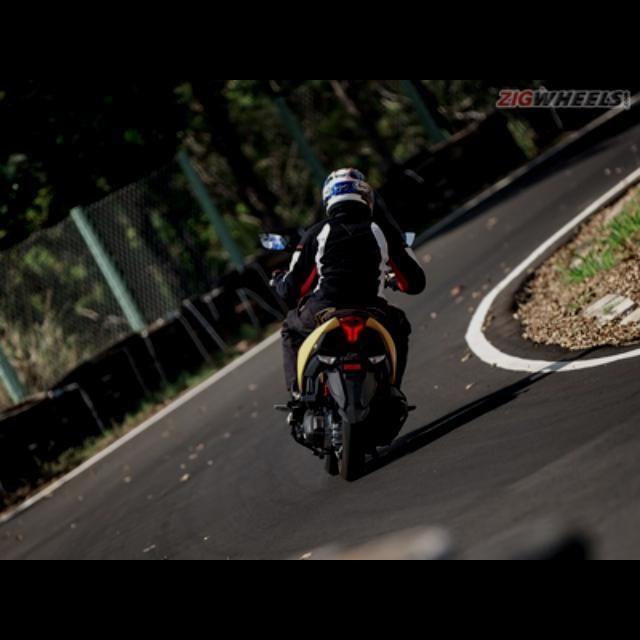With Helmet: (308, 157, 386, 221)
